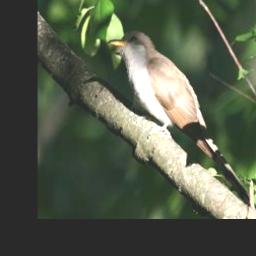Cuckoo: (108, 30, 256, 209)
